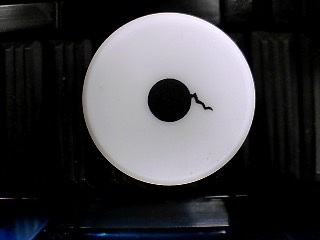CRACK: (82, 12, 256, 186)
